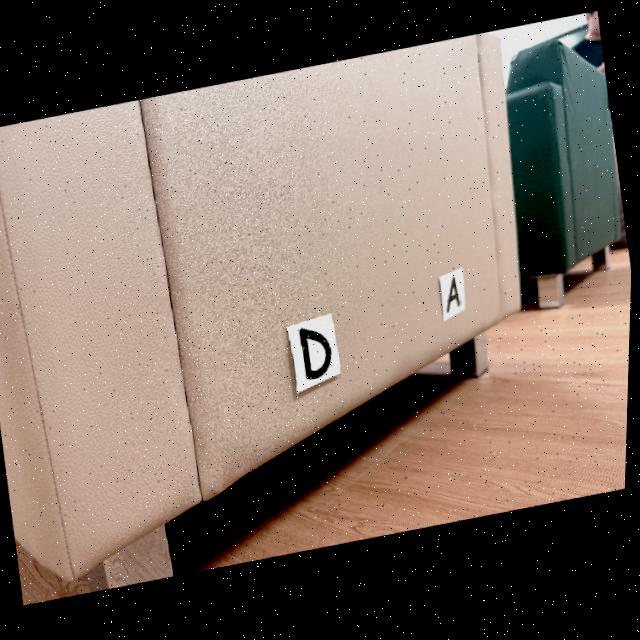A: (449, 280, 463, 316)
D: (301, 331, 334, 382)
